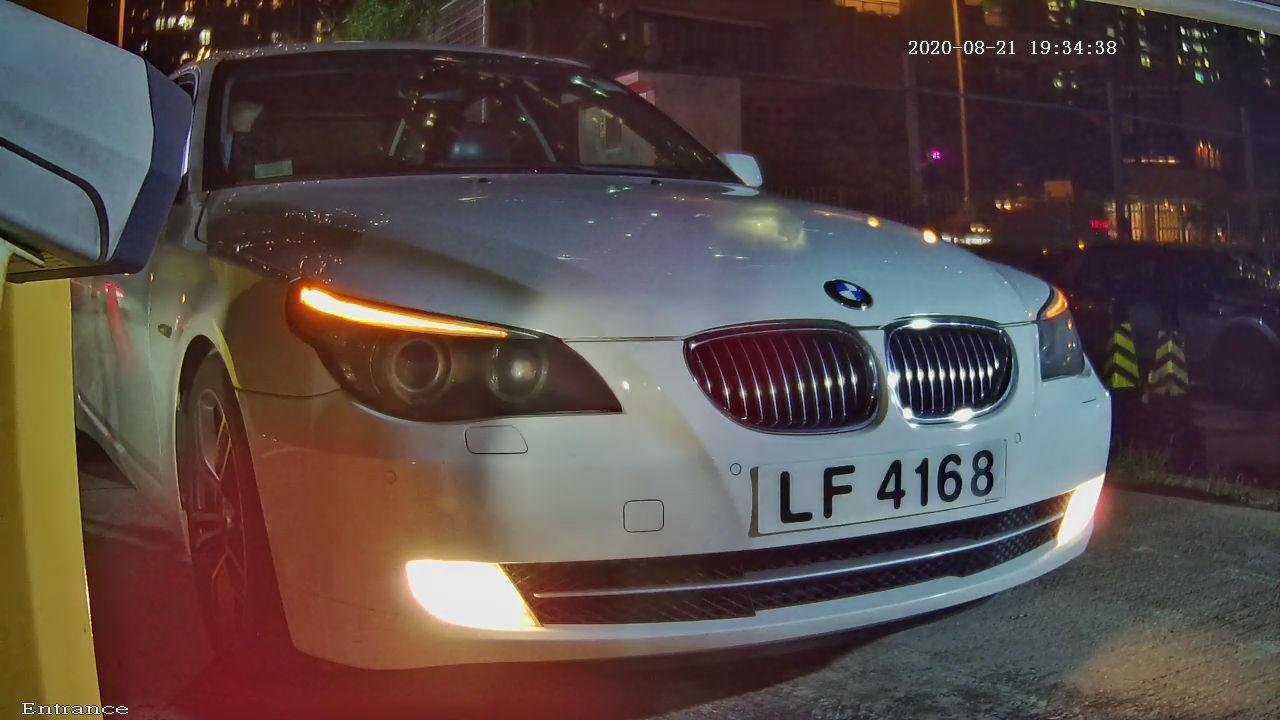License Plate: (732, 428, 1041, 541)
